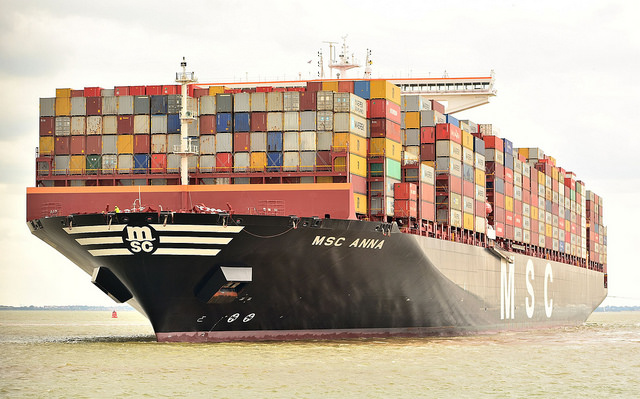container_ship: (27, 38, 606, 349)
